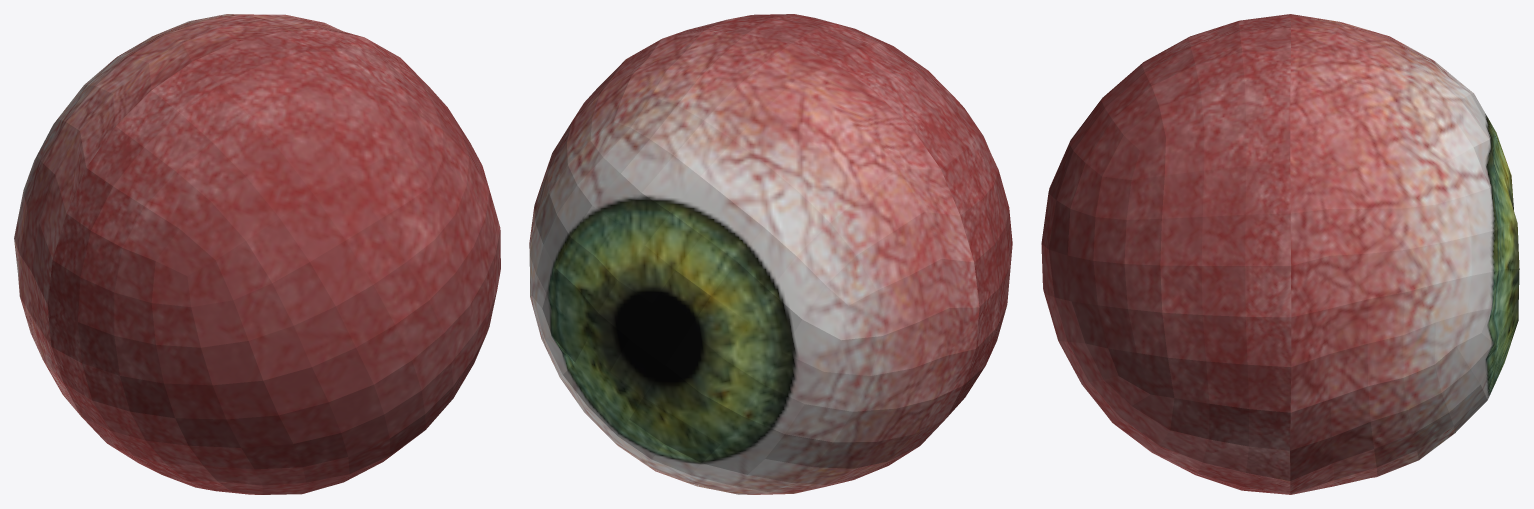
The model's file is MatXanh.fbx.
The picture shows the model from 3 angles, left to right: view 1: azimuth 30°, elevation 25°; view 2: azimuth 150°, elevation 25°; view 3: azimuth 270°, elevation 25°; orthographic projection.
Visible parts, largest first — view 1: MatXanh; view 2: MatXanh; view 3: MatXanh.
Part boxes in pixels (x1,y1,x2,y2): MatXanh: [14, 14, 500, 494]; MatXanh: [529, 14, 1012, 494]; MatXanh: [1041, 14, 1519, 494].
Bounding box in the file's own units: 1.07 × 1.06 × 1.06.
1 material, 1 textured.
